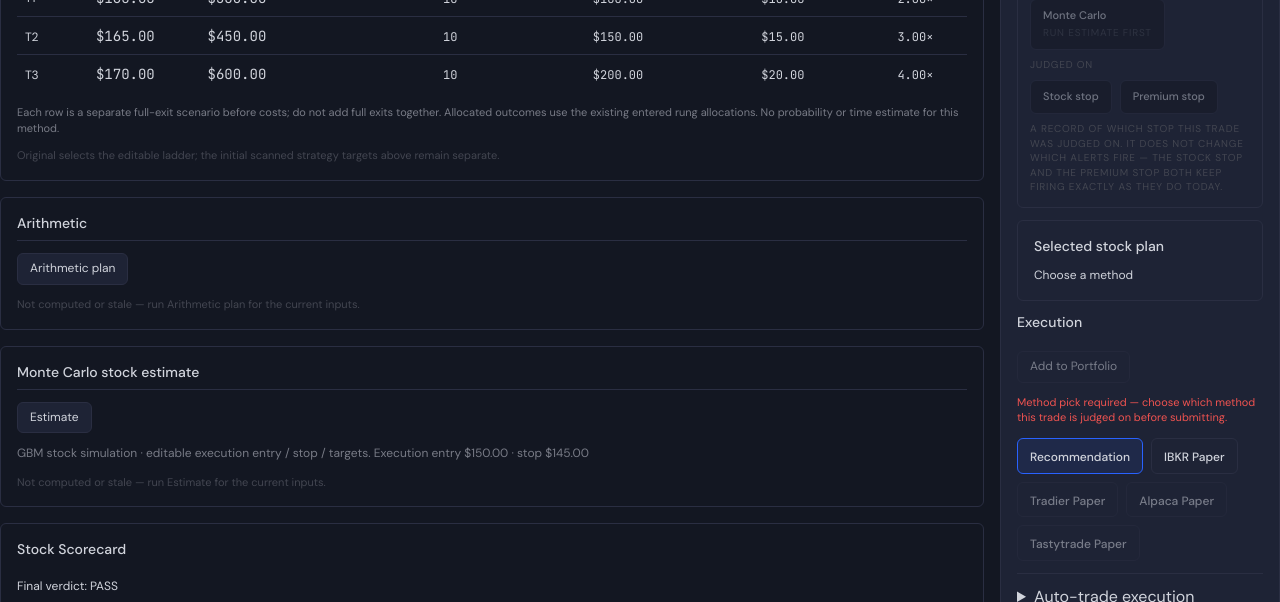
Test: Apply shares preserves prices and calculations with existing quantity allocation behavior
(page scrolled)
Click the button "Arithmetic plan" at (73, 269), box top-left (17, 253), bottom-right (128, 285)
(page scrolled)
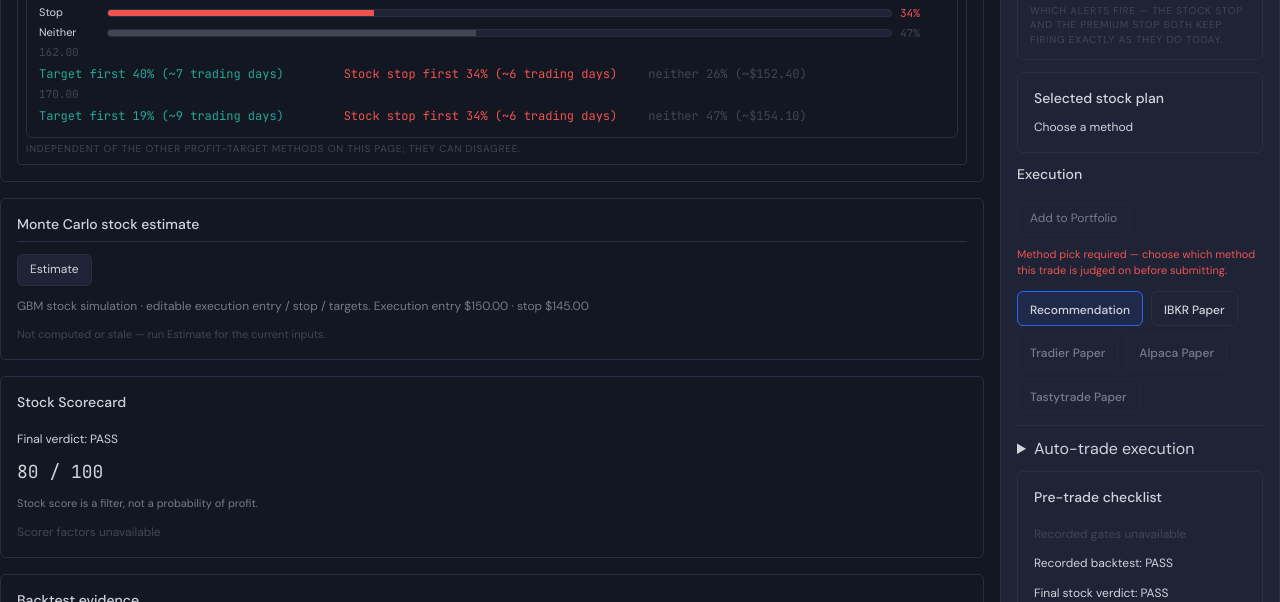
Click the button "Estimate" at (54, 270), box top-left (17, 254), bottom-right (92, 286)
(page scrolled)
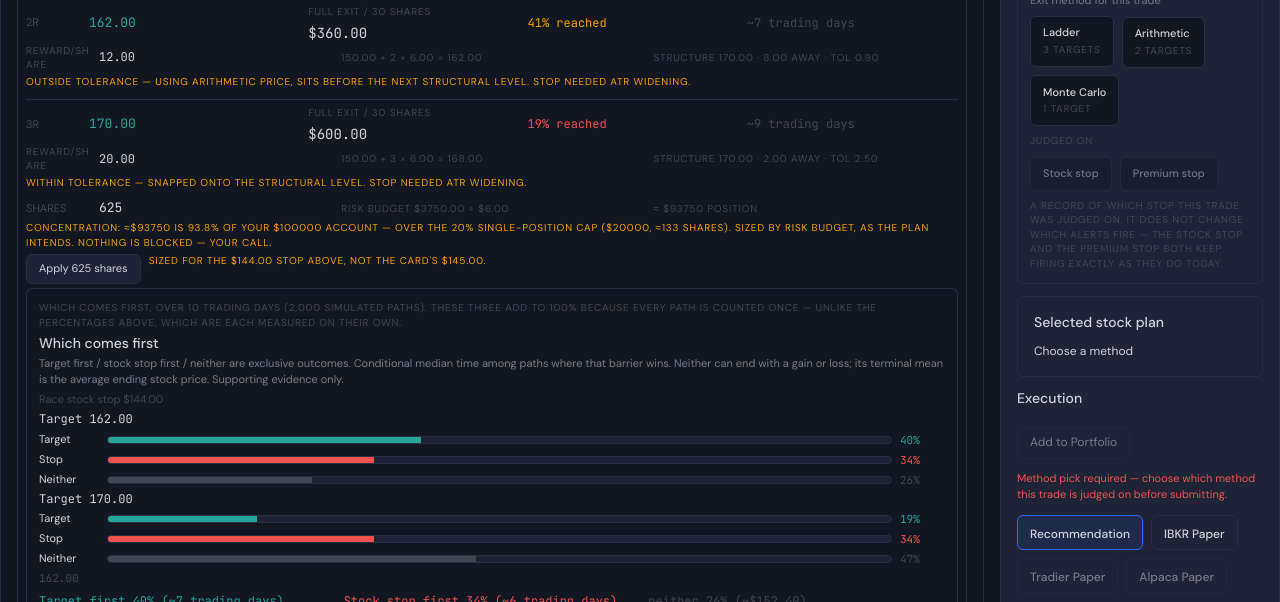
Click the button "Apply 625 shares" at (83, 269), box top-left (26, 254), bottom-right (141, 284)
(page scrolled)
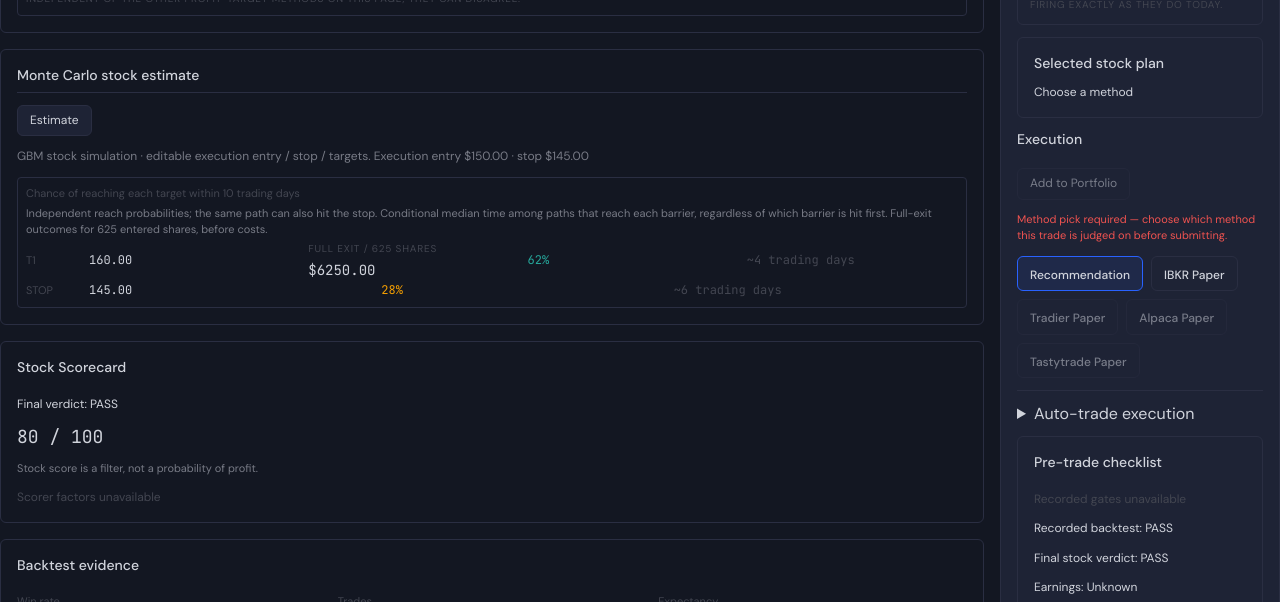
Expected: the text "$6250.00" is shown, top-left (308, 261), bottom-right (376, 279)
